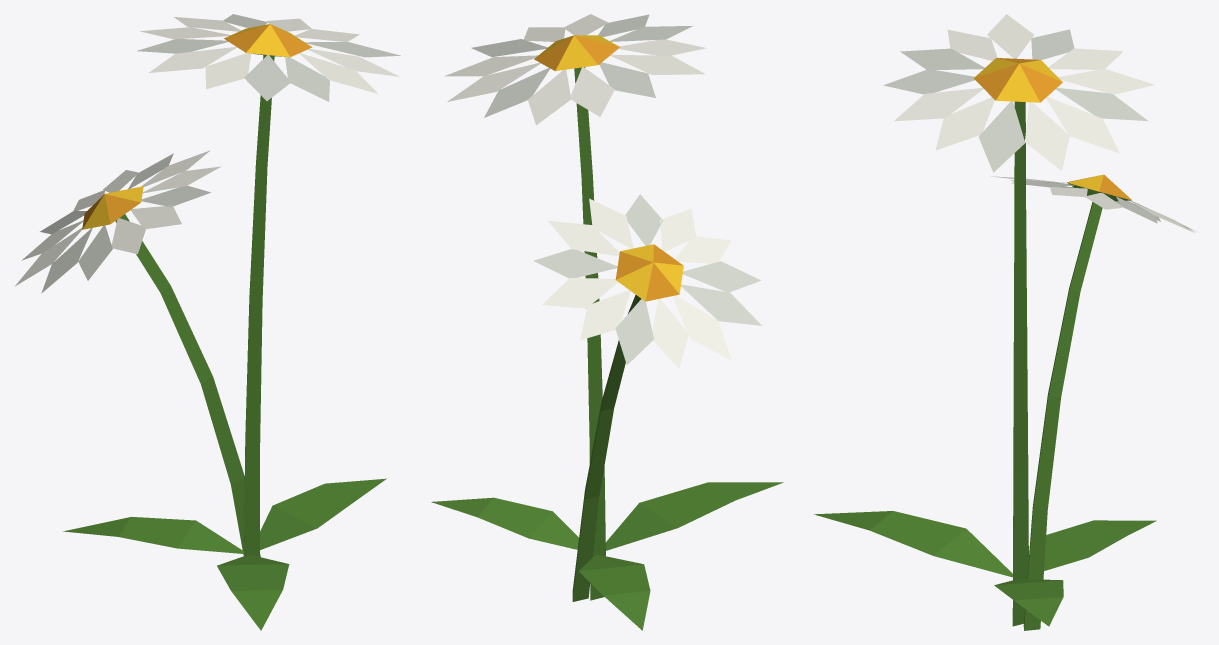
Rendered from daisy2.fbx.
The picture shows the model from 3 angles, left to right: view 1: azimuth 30°, elevation 25°; view 2: azimuth 150°, elevation 25°; view 3: azimuth 270°, elevation 25°; orthographic projection. The views are drawn at different scales.
Parts seen in each view (by area): view 1: daisy2; view 2: daisy2; view 3: daisy2.
Boxes of the visible parts, <box> form: daisy2: <box>15,14,400,630</box>; daisy2: <box>431,14,783,630</box>; daisy2: <box>814,14,1198,630</box>.
Bounding box in the file's own units: 26.79 × 42.57 × 26.5.
